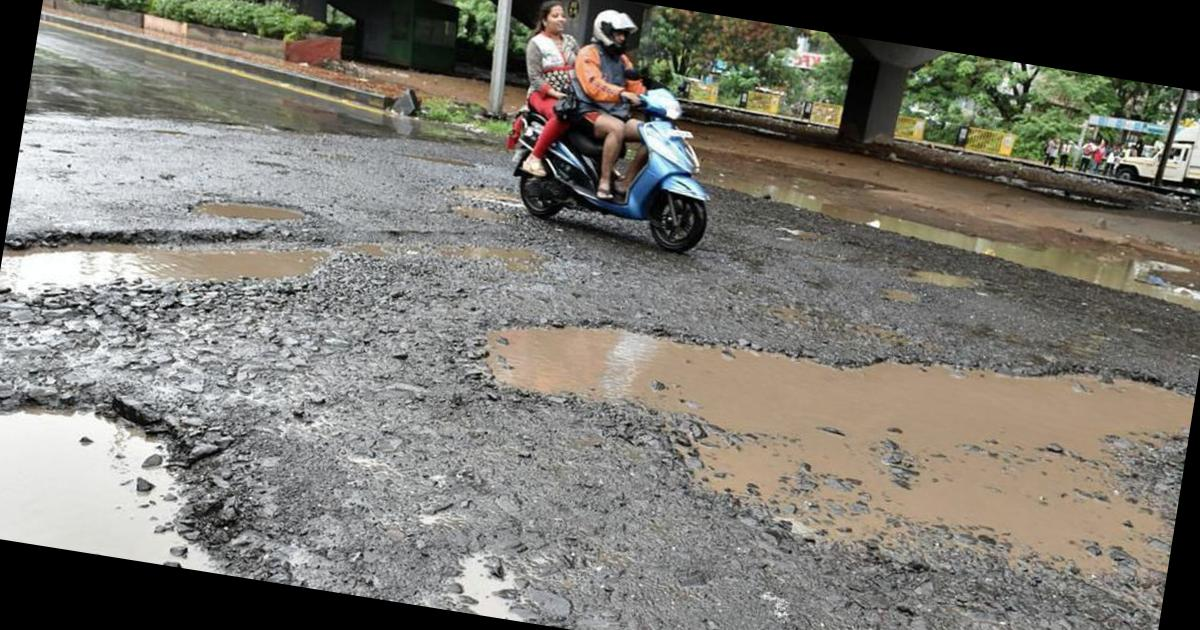pothole: (460, 272, 1196, 605), (0, 165, 400, 351), (0, 384, 245, 572), (168, 174, 318, 244)
